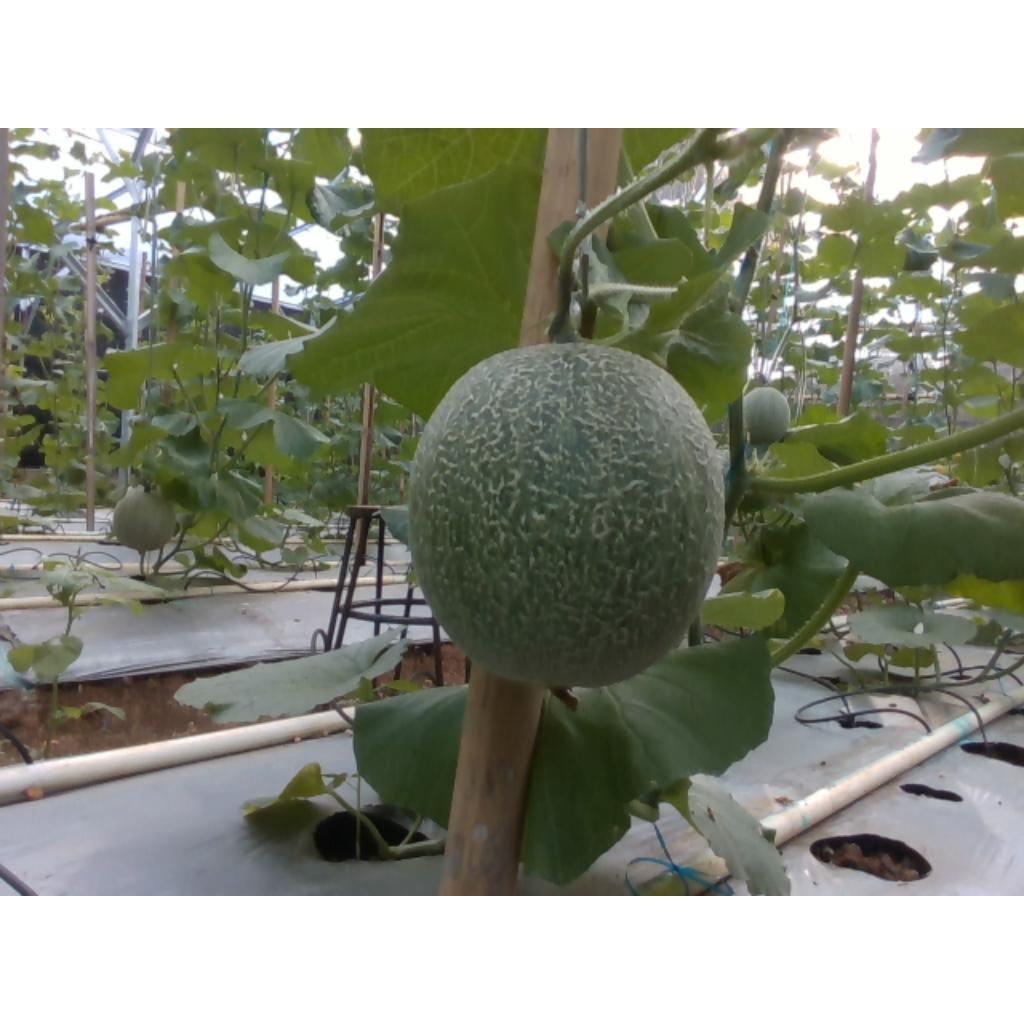melon: (411, 342, 725, 687)
